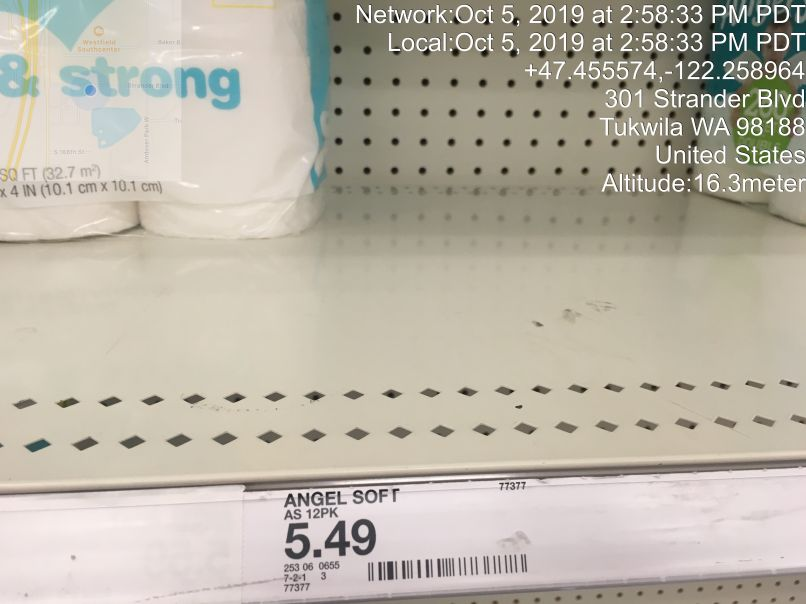Angel Soft: (4, 1, 344, 254)
Label: (273, 478, 559, 594)
Location: (588, 86, 806, 170)
Time: (339, 3, 806, 52)
Void: (346, 11, 688, 224)
